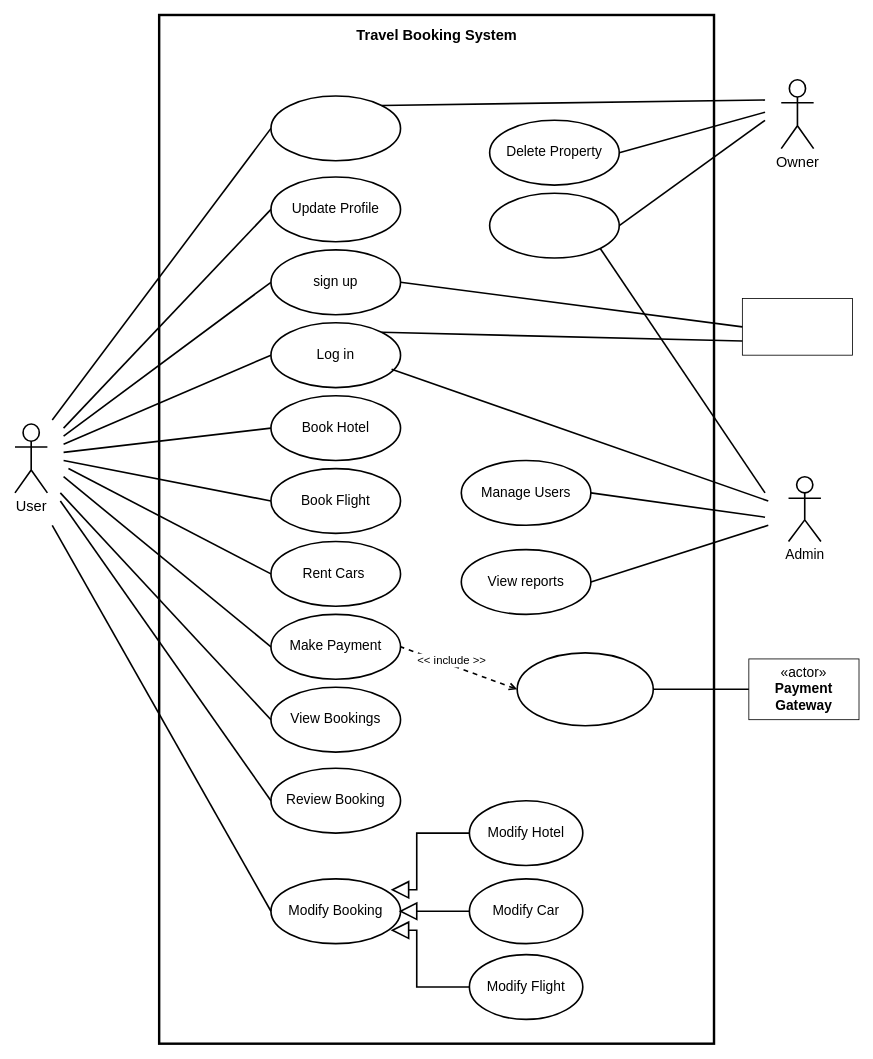
The diagram is 873 pixels wide and 1059 high, and some of its shapes have lost their labels. The centre of each missing label's shape, as x and y in pixels:
Add Property: (x=554, y=225)
Reserve Property: (x=335, y=128)
Validate Payment Method: (x=585, y=689)
«actor» Authentication Service: (x=797, y=326)
